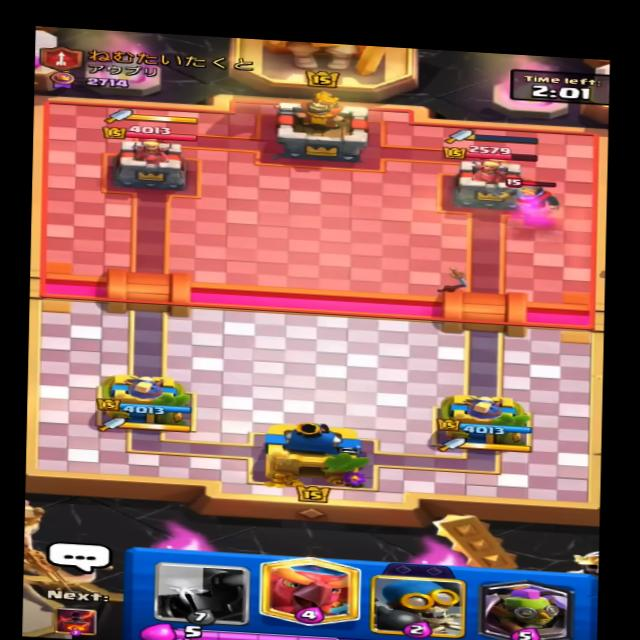Knight: (499, 167, 572, 213)
